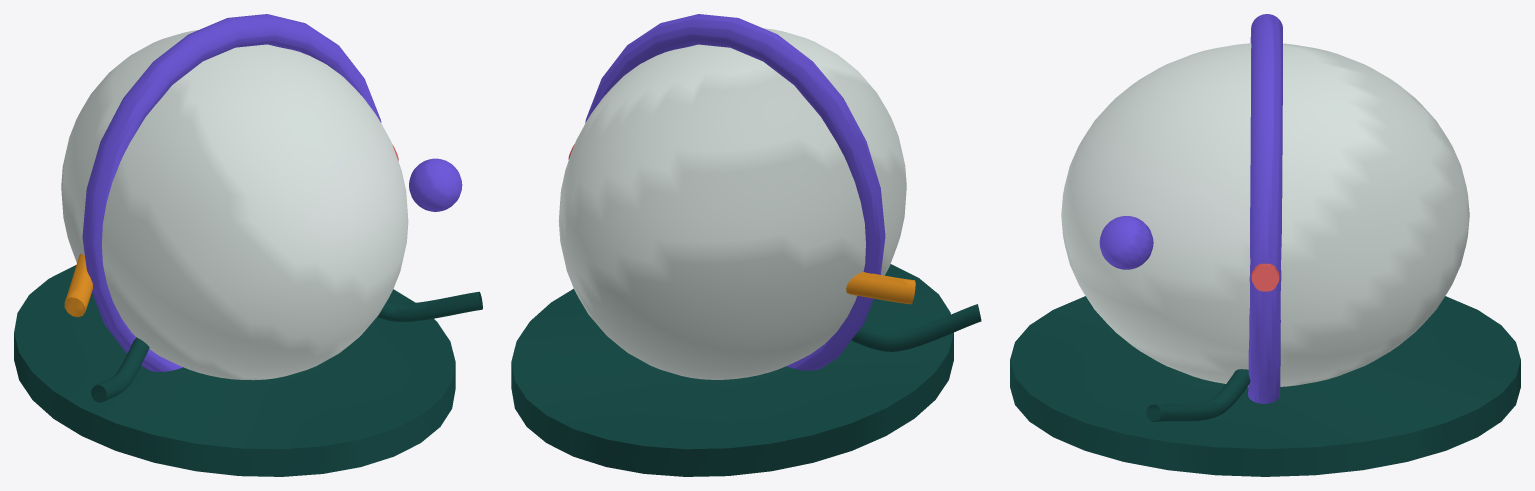
The model's file is 0414_微生物图鉴_肠球菌.glb.
3 views of the same model, side by side, from view 1: azimuth 30°, elevation 25°; view 2: azimuth 150°, elevation 25°; view 3: azimuth 270°, elevation 25° (orthographic).
Visible parts, largest first — view 1: card_0414; view 2: card_0414; view 3: card_0414.
Part boxes in pixels (bbox=[...]): card_0414: bbox=[14, 14, 482, 476]; card_0414: bbox=[511, 14, 981, 476]; card_0414: bbox=[1010, 14, 1520, 476].
Size of the model in its own units: 1.12 by 1 by 1.25.
